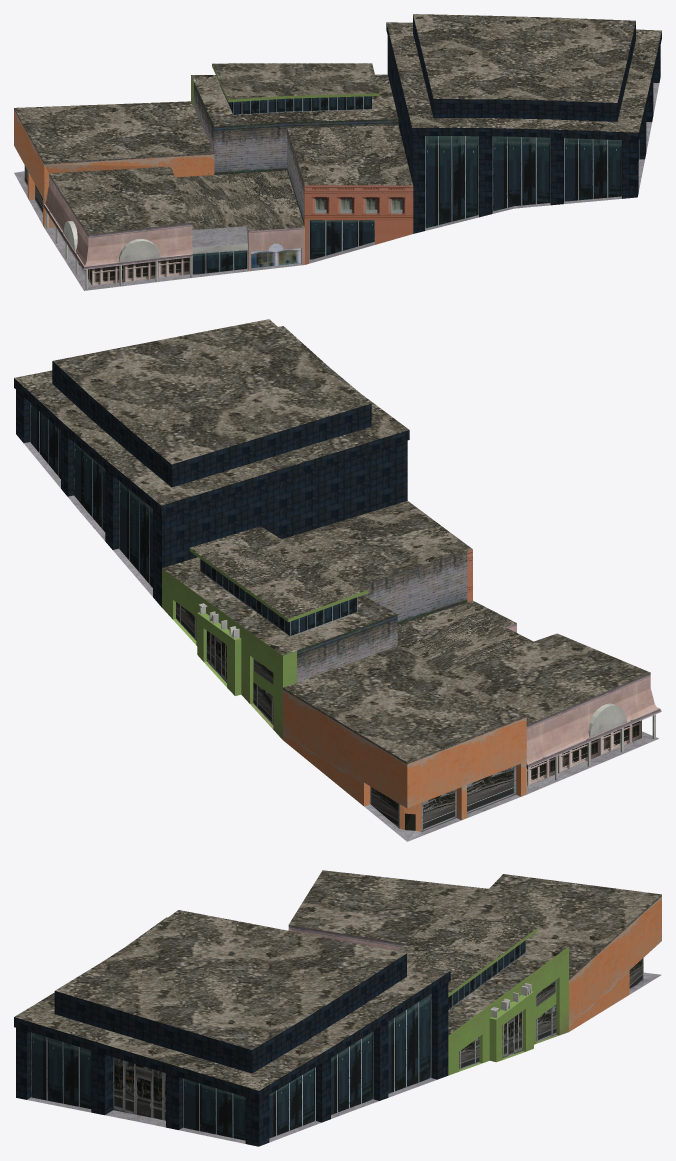
The model's file is rodeo05_law2.obj.
3 views of the same model, one above another, from view 1: azimuth 30°, elevation 25°; view 2: azimuth 150°, elevation 25°; view 3: azimuth 270°, elevation 25° (orthographic). The views are drawn at different scales.
Parts seen in each view (by area): view 1: rodeo05_LAw2; view 2: rodeo05_LAw2; view 3: rodeo05_LAw2.
Boxes of the visible parts, bbox=[...] form: rodeo05_LAw2: bbox=[14, 14, 661, 290]; rodeo05_LAw2: bbox=[14, 319, 661, 841]; rodeo05_LAw2: bbox=[14, 870, 661, 1146].
Bounding box in the file's own units: 108 × 30.07 × 88.07.
